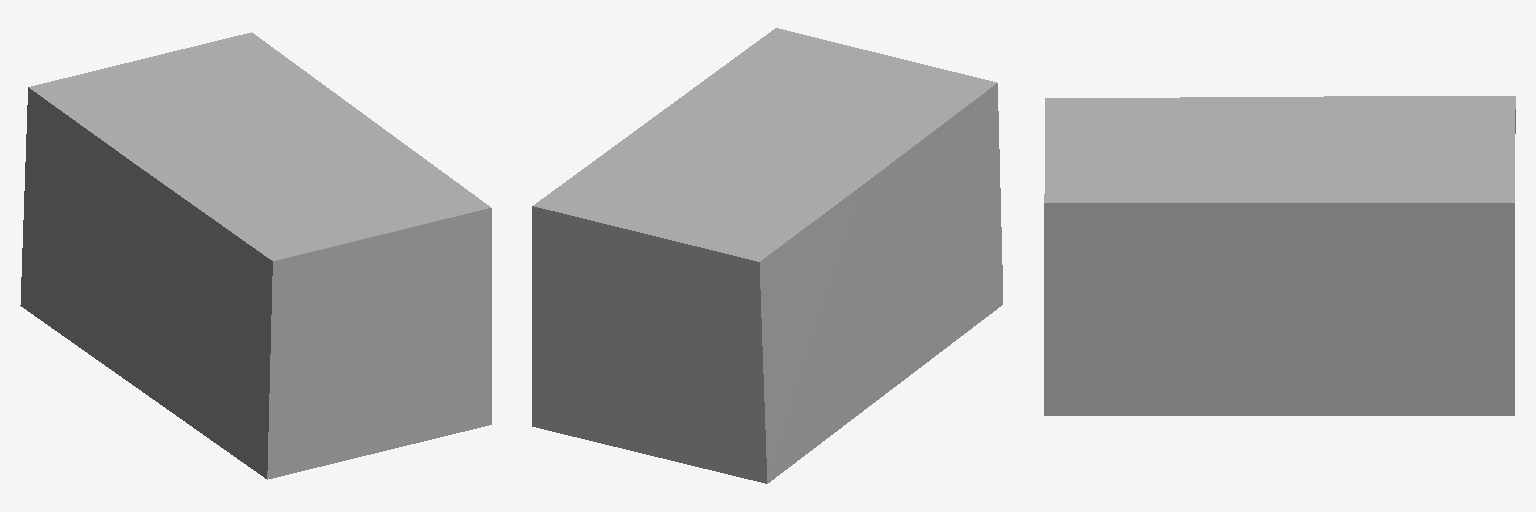
URDF robot description (root):
<?xml version='1.0' encoding='utf-8'?>
<robot name="root">
  <link name="link_001">
    <visual>
      <origin xyz="0 0 0" rpy="0 0 0" />
      <geometry>
        <mesh filename="32d6dca13f5f70c9fcc8783997f1e05702ad1c1f7ffc044ebcdc776bf629d0bb_scale_399.stl" scale="1.0000E+00 1.0000E+00 1.0000E+00" />
      </geometry>
      <material name="">
        <color rgba="7.50E-01 7.50E-01 7.50E-01 1" />
      </material>
    </visual>
    <collision>
      <origin xyz="0 0 0" rpy="0 0 0" />
      <geometry>
        <mesh filename="32d6dca13f5f70c9fcc8783997f1e05702ad1c1f7ffc044ebcdc776bf629d0bb_scale_399.stl" scale="1.0000E+00 1.0000E+00 1.0000E+00" />
      </geometry>
    </collision>
  </link>
</robot>

--- Render facts (derived) ---
3 views of the same robot in one strip: view 1: azimuth 30°, elevation 25°; view 2: azimuth 150°, elevation 25°; view 3: azimuth 270°, elevation 25° (orthographic).
Model root with 1 links and 0 joints (none), rooted at link_001, posed all joints at 0.
Links seen in each view (by area): view 1: link_001; view 2: link_001; view 3: link_001.
Link boxes in pixels (x1=…): link_001: x1=20, y1=32, x2=491, y2=479; link_001: x1=532, y1=28, x2=1002, y2=483; link_001: x1=1044, y1=96, x2=1515, y2=415.
Size in the robot's own frame: 0.0668 by 0.12 by 0.0601 metres.
1 mesh visuals loaded from 1 distinct referenced files (1 binary STL).
